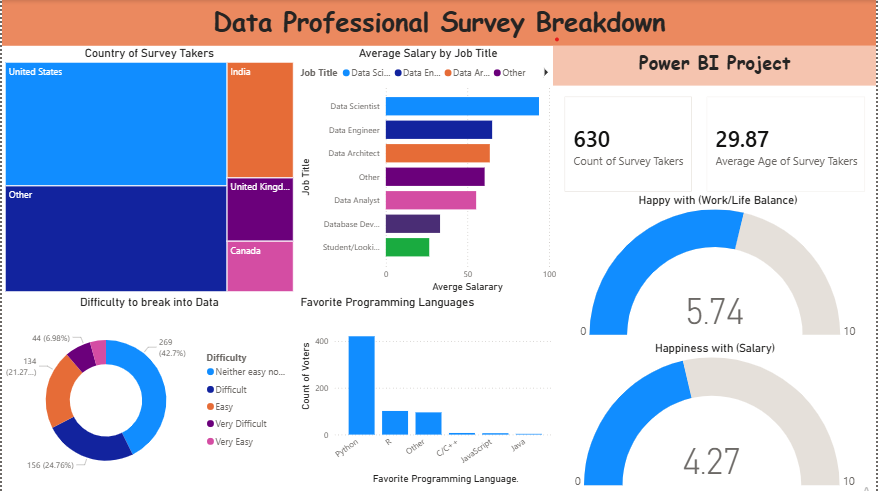

Layout of this report page (visuals, bound fields, positions):
{"tool":"powerbi","page":{"name":"Page 1","canvas":[1280,720],"ordinal":0},"visuals":[{"type":"textbox","box":[0,0,1280,67.3],"z":0},{"type":"cardVisual","fields":{"Data":["Avg(Data Professional Survey.Q10 - Current Age)"]},"box":[1013.5,124.5,266.5,173.6],"z":1000},{"type":"barChart","title":"Average Salary by Job Title","fields":{"Category":["Data Professional Survey.Q1 - Which Title Best Fits your Current Role?.1"],"Y":["Avg(Data Professional Survey.Averge Salarary)"],"Series":["Data Professional Survey.Q1 - Which Title Best Fits your Current Role?.1"]},"box":[431.3,66.6,384,364.7],"z":2000},{"type":"clusteredColumnChart","title":"Favorite Programming Languages","fields":{"Category":["Data Professional Survey.Q5 - Favorite Programming Language.1"],"Y":["CountNonNull(Data Professional Survey.Unique ID)"]},"box":[431.3,431.3,384,282.3],"z":3000},{"type":"cardVisual","fields":{"Data":["Count(Data Professional Survey.Unique ID)"]},"box":[806.6,124.5,220.9,173.6],"z":4000},{"type":"treemap","title":"Country of Survey Takers ","fields":{"Values":["CountNonNull(Data Professional Survey.Q11 - Which Country do you live in?.1)"],"Group":["Data Professional Survey.Q11 - Which Country do you live in?.1"]},"box":[0,66.6,431.3,364.7],"z":5000},{"type":"gauge","title":"Happy with (Work/Life Balance)","fields":{"Y":["Avg(Data Professional Survey.Q6 - How Happy are you in your Current Position with the following? (Work/Life Balance))"],"MinValue":["Min(Data Professional Survey.Q6 - How Happy are you in your Current Position with the following? (Work/Life Balance))1"],"MaxValue":["Max(Data Professional Survey.Q6 - How Happy are you in your Current Position with the following? (Work/Life Balance))2"]},"box":[815.3,282.3,464.7,217.4],"z":6000},{"type":"gauge","title":"Happiness with (Salary)","fields":{"Y":["Avg(Data Professional Survey.Q6 - How Happy are you in your Current Position with the following? (Salary))"],"MinValue":["Min(Data Professional Survey.Q6 - How Happy are you in your Current Position with the following? (Salary))1"],"MaxValue":["Max(Data Professional Survey.Q6 - How Happy are you in your Current Position with the following? (Salary))2"]},"box":[806.6,499.7,473.4,220.9],"z":7000},{"type":"donutChart","title":"Difficulty to break into Data","fields":{"Category":["Data Professional Survey.Q7 - How difficult was it for you to break into Data?"],"Y":["CountNonNull(Data Professional Survey.Q7 - How difficult was it for you to break into Data?)"]},"box":[0,431.3,431.3,289.3],"z":8000},{"type":"textbox","box":[806.6,66.6,473.4,57.9],"z":8001}]}

Visuals, with their boxes in screenshot pixels (x1, y1, x2, y2), scaled from the page's 1280x720 canvas onto the 878x491 screenshot:
textbox: <box>0,0,877,46</box>
cardVisual - Avg(Data Professional Survey.Q10 - Current Age): <box>695,85,877,203</box>
"Average Salary by Job Title" barChart: <box>296,45,559,294</box>
"Favorite Programming Languages" clusteredColumnChart: <box>296,294,559,487</box>
cardVisual - Count(Data Professional Survey.Unique ID): <box>553,85,705,203</box>
"Country of Survey Takers " treemap: <box>0,45,296,294</box>
"Happy with (Work/Life Balance)" gauge: <box>559,193,877,341</box>
"Happiness with (Salary)" gauge: <box>553,341,877,490</box>
"Difficulty to break into Data" donutChart: <box>0,294,296,490</box>
textbox: <box>553,45,877,85</box>
